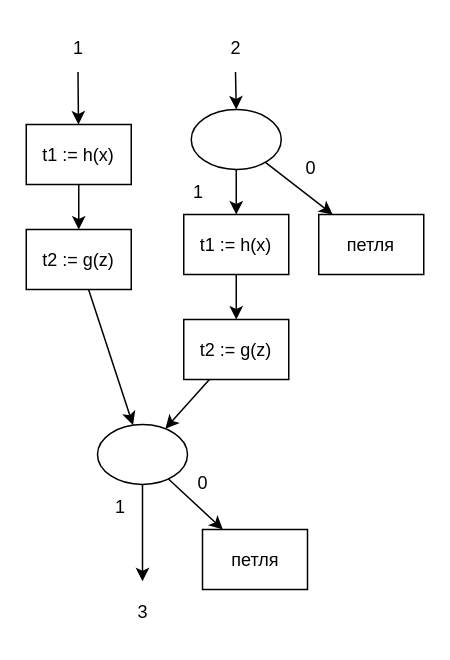
The diagram is 450 pixels wide and 660 high, and some of its shapes have lost their labels. Here are the shapes that lost their labels. From the top down, the centre of each, then its label:
the point at 235,139: q1(x)
the point at 142,453: p(t1, t2)
